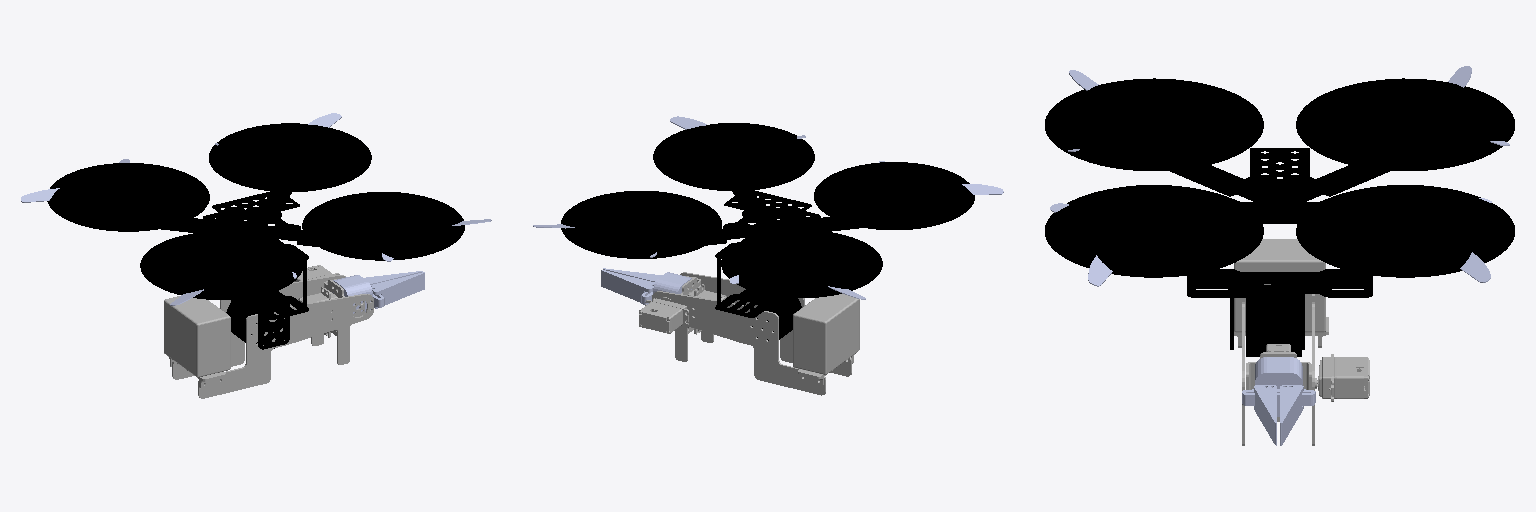
robot.urdf — drone_urdf:
<?xml version="1.0" encoding="utf-8"?>
<!-- This URDF was automatically created by SolidWorks to URDF Exporter! Originally created by Stephen Brawner (brawner@gmail.com) 
     Commit Version: 1.6.0-4-g7f85cfe  Build Version: 1.6.7995.38578
     For more information, please see http://wiki.ros.org/sw_urdf_exporter -->
<robot
  name="drone_urdf">
  <link
    name="base_link">
    <inertial>
      <origin
        xyz="0.000907475706001883 -0.000423670074537461 0.0111491466794645"
        rpy="0 0 0" />
      <mass
        value="0.488631998773489" />
      <inertia
        ixx="0.0003394146450622"
        ixy="-5.47895747935371E-09"
        ixz="7.77339334748355E-06"
        iyy="0.000309589237715915"
        iyz="-3.22767709492754E-07"
        izz="0.000578730084074586" />
    </inertial>
    <visual>
      <origin
        xyz="0 0 0"
        rpy="0 0 0" />
      <geometry>
        <mesh
          filename="package://drone_urdf/meshes/base_link.STL" />
      </geometry>
      <material
        name="">
        <color
          rgba="0 0 0 1" />
      </material>
    </visual>
    <collision>
      <origin
        xyz="0 0 0"
        rpy="0 0 0" />
      <geometry>
        <mesh
          filename="package://drone_urdf/meshes/base_link.STL" />
      </geometry>
    </collision>
  </link>
  <link
    name="arm_pitch_link">
    <inertial>
      <origin
        xyz="-0.0398453774314292 0.0119005506832749 -0.00382043114387848"
        rpy="0 0 0" />
      <mass
        value="0.27884808487173" />
      <inertia
        ixx="0.000207610406680709"
        ixy="1.37728047107927E-08"
        ixz="-2.80793613991633E-05"
        iyy="0.000276261970239362"
        iyz="-1.34606428475476E-10"
        izz="0.000276825987522781" />
    </inertial>
    <visual>
      <origin
        xyz="0 0 0"
        rpy="0 0 0" />
      <geometry>
        <mesh
          filename="package://drone_urdf/meshes/arm_link_pitch.STL" />
      </geometry>
      <material
        name="">
        <color
          rgba="0.752941176470588 0.752941176470588 0.752941176470588 1" />
      </material>
    </visual>
    <collision>
      <origin
        xyz="0 0 0"
        rpy="0 0 0" />
      <geometry>
        <mesh
          filename="package://drone_urdf/meshes/arm_link_pitch.STL" />
      </geometry>
    </collision>
  </link>
  <joint
    name="arm_pitch_joint"
    type="revolute">
    <origin
      xyz="-0.00900000000000107 -0.00959999999999346 -0.108564971157456"
      rpy="0 0 0" />
    <parent
      link="base_link" />
    <child
      link="arm_pitch_link" />
    <axis
      xyz="0 1 0" />
    <limit
      lower="0.0"
      upper="1.57079632679489"
      effort="1"
      velocity="3.14159265358979" />
  </joint>
  <link
    name="arm_pitch2_link">
    <inertial>
      <origin
        xyz="-0.023516938721574 4.18532853542486E-06 -0.00768194746699748"
        rpy="0 0 0" />
      <mass
        value="0.0210875044546739" />
      <inertia
        ixx="6.39715585052796E-06"
        ixy="-2.41805257406697E-09"
        ixz="-1.19894052482399E-07"
        iyy="4.08923763224478E-06"
        iyz="-1.32573706392634E-09"
        izz="3.22008349508992E-06" />
    </inertial>
    <visual>
      <origin
        xyz="0 0 0"
        rpy="0 0 0" />
      <geometry>
        <mesh
          filename="package://drone_urdf/meshes/arm_link_pitch2.STL" />
      </geometry>
      <material
        name="">
        <color
          rgba="0.752941176470588 0.752941176470588 0.752941176470588 1" />
      </material>
    </visual>
    <collision>
      <origin
        xyz="0 0 0"
        rpy="0 0 0" />
      <geometry>
        <mesh
          filename="package://drone_urdf/meshes/arm_link_pitch2.STL" />
      </geometry>
    </collision>
  </link>
  <joint
    name="arm_pitch2_joint"
    type="revolute">
    <origin
      xyz="0.121750000000001 0.00854999999999909 0"
      rpy="0 0 0" />
    <parent
      link="arm_pitch_link" />
    <child
      link="arm_pitch2_link" />
    <axis
      xyz="0 1 0" />
    <limit
      lower="-1.57079632679489"
      upper="1.57079632679489"
      effort="1"
      velocity="3.14159265358979" />
  </joint>
  <link
    name="arm_roll_link">
    <inertial>
      <origin
        xyz="0.0214596036747811 -4.16333634234434E-17 6.93889390390723E-16"
        rpy="0 0 0" />
      <mass
        value="0.0484341554265054" />
      <inertia
        ixx="1.16041391569966E-05"
        ixy="-5.47837553248285E-22"
        ixz="-7.81037589659039E-22"
        iyy="1.03955470549503E-05"
        iyz="-1.63997385498497E-21"
        izz="1.15999333554083E-05" />
    </inertial>
    <visual>
      <origin
        xyz="0 0 0"
        rpy="0 0 0" />
      <geometry>
        <mesh
          filename="package://drone_urdf/meshes/arm_link_roll.STL" />
      </geometry>
      <material
        name="">
        <color
          rgba="0.792156862745098 0.819607843137255 0.933333333333333 1" />
      </material>
    </visual>
    <collision>
      <origin
        xyz="0 0 0"
        rpy="0 0 0" />
      <geometry>
        <mesh
          filename="package://drone_urdf/meshes/arm_link_roll.STL" />
      </geometry>
    </collision>
  </link>
  <joint
    name="arm_roll_joint"
    type="revolute">
    <origin
      xyz="-0.0127499999999994 0 0"
      rpy="0 0 0" />
    <parent
      link="arm_pitch2_link" />
    <child
      link="arm_roll_link" />
    <axis
      xyz="1 0 0" />
    <limit
      lower="-1.57079632679489"
      upper="1.57079632679489"
      effort="1"
      velocity="3.14159265358979" />
  </joint>
  <link
    name="arm_right_finger_link">
    <inertial>
      <origin
        xyz="0.0266572620419732 0.00731144395006261 -2.77555756156289E-17"
        rpy="0 0 0" />
      <mass
        value="0.0137580473580037" />
      <inertia
        ixx="7.64772710245584E-07"
        ixy="5.27071645206675E-07"
        ixz="-1.72870352469125E-21"
        iyy="4.65933927709925E-06"
        iyz="-8.03457821129638E-22"
        izz="4.43352365698545E-06" />
    </inertial>
    <visual>
      <origin
        xyz="0 0 0"
        rpy="0 0 0" />
      <geometry>
        <mesh
          filename="package://drone_urdf/meshes/arm_link_right_finger.STL" />
      </geometry>
      <material
        name="">
        <color
          rgba="0.792156862745098 0.819607843137255 0.933333333333333 1" />
      </material>
    </visual>
    <collision>
      <origin
        xyz="0 0 0"
        rpy="0 0 0" />
      <geometry>
        <mesh
          filename="package://drone_urdf/meshes/arm_link_right_finger.STL" />
      </geometry>
    </collision>
  </link>
  <joint
    name="arm_right_finger_joint"
    type="prismatic">
    <origin
      xyz="0.041 0 0"
      rpy="-3.14159265358979 0 0" />
    <parent
      link="arm_roll_link" />
    <child
      link="arm_right_finger_link" />
    <axis
      xyz="0 1 0" />
    <limit
      lower="-1.57079632679489"
      upper="1.57079632679489"
      effort="1"
      velocity="3.14159265358979" />
  </joint>
  <link
    name="arm_left_finger_link">
    <inertial>
      <origin
        xyz="0.0266572620419732 0.00731144395006227 1.38777878078145E-17"
        rpy="0 0 0" />
      <mass
        value="0.0137580473580037" />
      <inertia
        ixx="7.64772710245591E-07"
        ixy="5.27071645206696E-07"
        ixz="-1.62476061272331E-22"
        iyy="4.65933927709924E-06"
        iyz="3.48473813235149E-23"
        izz="4.43352365698545E-06" />
    </inertial>
    <visual>
      <origin
        xyz="0 0 0"
        rpy="0 0 0" />
      <geometry>
        <mesh
          filename="package://drone_urdf/meshes/arm_link_left_finger.STL" />
      </geometry>
      <material
        name="">
        <color
          rgba="0.792156862745098 0.819607843137255 0.933333333333333 1" />
      </material>
    </visual>
    <collision>
      <origin
        xyz="0 0 0"
        rpy="0 0 0" />
      <geometry>
        <mesh
          filename="package://drone_urdf/meshes/arm_link_left_finger.STL" />
      </geometry>
    </collision>
  </link>
  <joint
    name="arm_left_finger_joint"
    type="prismatic">
    <origin
      xyz="0.041 0 0"
      rpy="0 0 0" />
    <parent
      link="arm_roll_link" />
    <child
      link="arm_left_finger_link" />
    <axis
      xyz="0 -1 0" />
    <limit
      lower="-1.57079632679489"
      upper="1.57079632679489"
      effort="1"
      velocity="3.14159265358979" />
  </joint>
  <link
    name="rotor0_link">
    <inertial>
      <origin
        xyz="4.10028894379244E-07 2.175982592445E-07 0.00394569070499525"
        rpy="0 0 0" />
      <mass
        value="0.00513321535811529" />
      <inertia
        ixx="4.89102637484774E-06"
        ixy="-9.87903196414219E-11"
        ixz="-2.33305509477106E-11"
        iyy="4.89089750229697E-06"
        iyz="-1.06898081652699E-11"
        izz="9.751174160399E-06" />
    </inertial>
    <visual>
      <origin
        xyz="0 0 0"
        rpy="0 0 0" />
      <geometry>
        <mesh
          filename="package://drone_urdf/meshes/rotor_0.STL" />
      </geometry>
      <material
        name="">
        <color
          rgba="0.792156862745098 0.819607843137255 0.933333333333333 1" />
      </material>
    </visual>
    <collision>
      <origin
        xyz="0 0 0"
        rpy="0 0 0" />
      <geometry>
        <mesh
          filename="package://drone_urdf/meshes/rotor_0.STL" />
      </geometry>
    </collision>
  </link>
  <joint
    name="rotor0_joint"
    type="continuous">
    <origin
      xyz="0.123743686707645 0.123743686707643 0.0211606308991274"
      rpy="0 0 0" />
    <parent
      link="base_link" />
    <child
      link="rotor0_link" />
    <axis
      xyz="0 0 1" />
  </joint>
  <link
    name="rotor1_link">
    <inertial>
      <origin
        xyz="-1.75372556490694E-07 8.4725947091524E-09 0.00390632506972198"
        rpy="0 0 0" />
      <mass
        value="0.00513323233563622" />
      <inertia
        ixx="4.89095330315956E-06"
        ixy="2.43437422692745E-11"
        ixz="6.45691578496296E-12"
        iyy="4.89092670347586E-06"
        iyz="-1.632797354479E-12"
        izz="9.75113033820885E-06" />
    </inertial>
    <visual>
      <origin
        xyz="0 0 0"
        rpy="0 0 0" />
      <geometry>
        <mesh
          filename="package://drone_urdf/meshes/rotor_1.STL" />
      </geometry>
      <material
        name="">
        <color
          rgba="0.792156862745098 0.819607843137255 0.933333333333333 1" />
      </material>
    </visual>
    <collision>
      <origin
        xyz="0 0 0"
        rpy="0 0 0" />
      <geometry>
        <mesh
          filename="package://drone_urdf/meshes/rotor_1.STL" />
      </geometry>
    </collision>
  </link>
  <joint
    name="rotor1_joint"
    type="continuous">
    <origin
      xyz="-0.123743686707647 0.123743686707645 0.0212"
      rpy="0 0 0" />
    <parent
      link="base_link" />
    <child
      link="rotor1_link" />
    <axis
      xyz="0 0 1" />
  </joint>
  <link
    name="rotor2_link">
    <inertial>
      <origin
        xyz="-4.10028889119562E-07 -2.17598259969615E-07 0.00390632160412273"
        rpy="0 0 0" />
      <mass
        value="0.0051332153581153" />
      <inertia
        ixx="4.89102637484776E-06"
        ixy="-9.87903196591731E-11"
        ixz="2.33305509491031E-11"
        iyy="4.89089750229696E-06"
        iyz="1.06898081663707E-11"
        izz="9.75117416039901E-06" />
    </inertial>
    <visual>
      <origin
        xyz="0 0 0"
        rpy="0 0 0" />
      <geometry>
        <mesh
          filename="package://drone_urdf/meshes/rotor_2.STL" />
      </geometry>
      <material
        name="">
        <color
          rgba="0.792156862745098 0.819607843137255 0.933333333333333 1" />
      </material>
    </visual>
    <collision>
      <origin
        xyz="0 0 0"
        rpy="0 0 0" />
      <geometry>
        <mesh
          filename="package://drone_urdf/meshes/rotor_2.STL" />
      </geometry>
    </collision>
  </link>
  <joint
    name="rotor2_joint"
    type="continuous">
    <origin
      xyz="-0.123743686707646 -0.123743686707645 0.0212"
      rpy="0 0 0" />
    <parent
      link="base_link" />
    <child
      link="rotor2_link" />
    <axis
      xyz="0 0 1" />
  </joint>
  <link
    name="rotor3_link">
    <inertial>
      <origin
        xyz="1.75372556088238E-07 -8.47259472996909E-09 0.00390632506972164"
        rpy="0 0 0" />
      <mass
        value="0.00513323233563622" />
      <inertia
        ixx="4.89095330315957E-06"
        ixy="2.43437422700128E-11"
        ixz="-6.45691578349963E-12"
        iyy="4.89092670347583E-06"
        iyz="1.63279735632465E-12"
        izz="9.75113033820883E-06" />
    </inertial>
    <visual>
      <origin
        xyz="0 0 0"
        rpy="0 0 0" />
      <geometry>
        <mesh
          filename="package://drone_urdf/meshes/rotor_3.STL" />
      </geometry>
      <material
        name="">
        <color
          rgba="0.792156862745098 0.819607843137255 0.933333333333333 1" />
      </material>
    </visual>
    <collision>
      <origin
        xyz="0 0 0"
        rpy="0 0 0" />
      <geometry>
        <mesh
          filename="package://drone_urdf/meshes/rotor_3.STL" />
      </geometry>
    </collision>
  </link>
  <joint
    name="rotor3_joint"
    type="continuous">
    <origin
      xyz="0.123743686707646 -0.123743686707646 0.0212"
      rpy="0 0 0" />
    <parent
      link="base_link" />
    <child
      link="rotor3_link" />
    <axis
      xyz="0 0 1" />
  </joint>
</robot>

--- What the picture shows (computed from the rendered views, not written in the file) ---
The picture shows the robot from 3 angles, left to right: view 1: azimuth 30°, elevation 25°; view 2: azimuth 150°, elevation 25°; view 3: azimuth 270°, elevation 25°; orthographic projection.
Model drone_urdf with 10 links and 9 joints (3 revolute, 4 continuous, 2 prismatic), rooted at base_link, posed every joint at zero.
Links seen in each view (by area): view 1: base_link, arm_pitch_link, arm_right_finger_link, arm_roll_link, arm_pitch2_link; view 2: base_link, arm_pitch_link, arm_left_finger_link, arm_roll_link, arm_pitch2_link; view 3: base_link, arm_pitch_link, arm_roll_link, arm_left_finger_link, arm_right_finger_link, arm_pitch2_link, rotor3_link, rotor0_link.
Boxes of the visible links, <box> form: base_link: <box>47,123,464,349</box>; arm_pitch_link: <box>164,265,373,398</box>; arm_right_finger_link: <box>371,272,424,308</box>; arm_roll_link: <box>333,275,384,313</box>; arm_pitch2_link: <box>298,279,364,337</box>; base_link: <box>561,123,974,340</box>; arm_pitch_link: <box>639,272,859,395</box>; arm_left_finger_link: <box>601,270,654,302</box>; arm_roll_link: <box>641,272,691,304</box>; arm_pitch2_link: <box>662,276,726,334</box>; base_link: <box>1045,78,1514,356</box>; arm_pitch_link: <box>1234,239,1369,445</box>; arm_roll_link: <box>1242,357,1315,416</box>; arm_left_finger_link: <box>1280,385,1303,445</box>; arm_right_finger_link: <box>1254,385,1276,445</box>; arm_pitch2_link: <box>1246,344,1311,421</box>; rotor3_link: <box>1050,203,1112,286</box>; rotor0_link: <box>1460,198,1491,282</box>.
Size in the robot's own frame: 0.4206 by 0.3814 by 0.2046 metres.
Meshes: 10 distinct files referenced, 10 mesh visuals loaded (10 binary STL).
